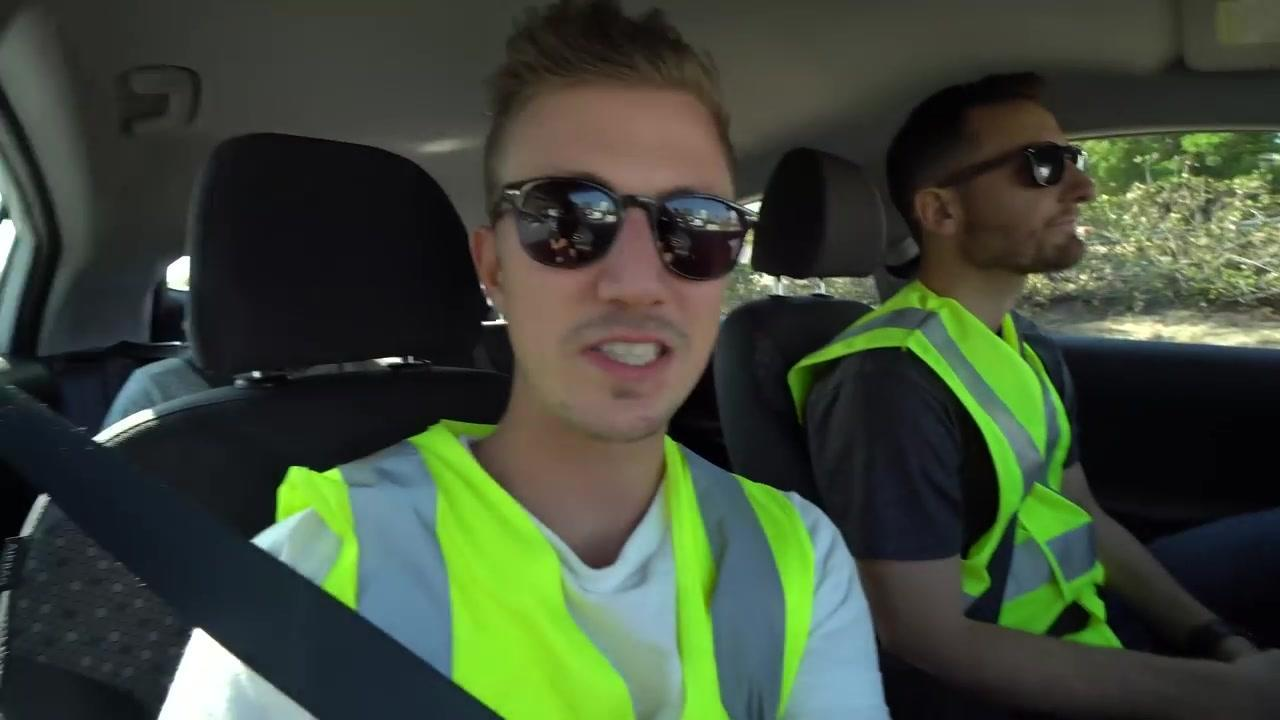vest: (274, 418, 817, 718), (786, 273, 1126, 650)
